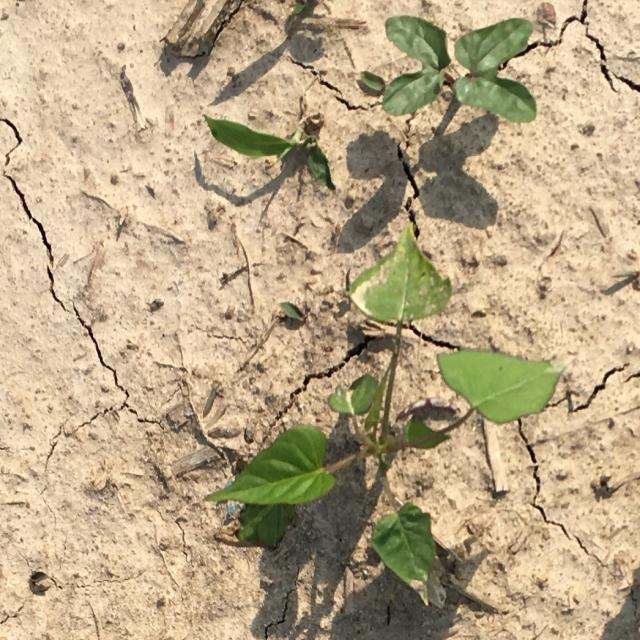MorningGlory: (204, 222, 566, 606), (382, 15, 536, 122)
